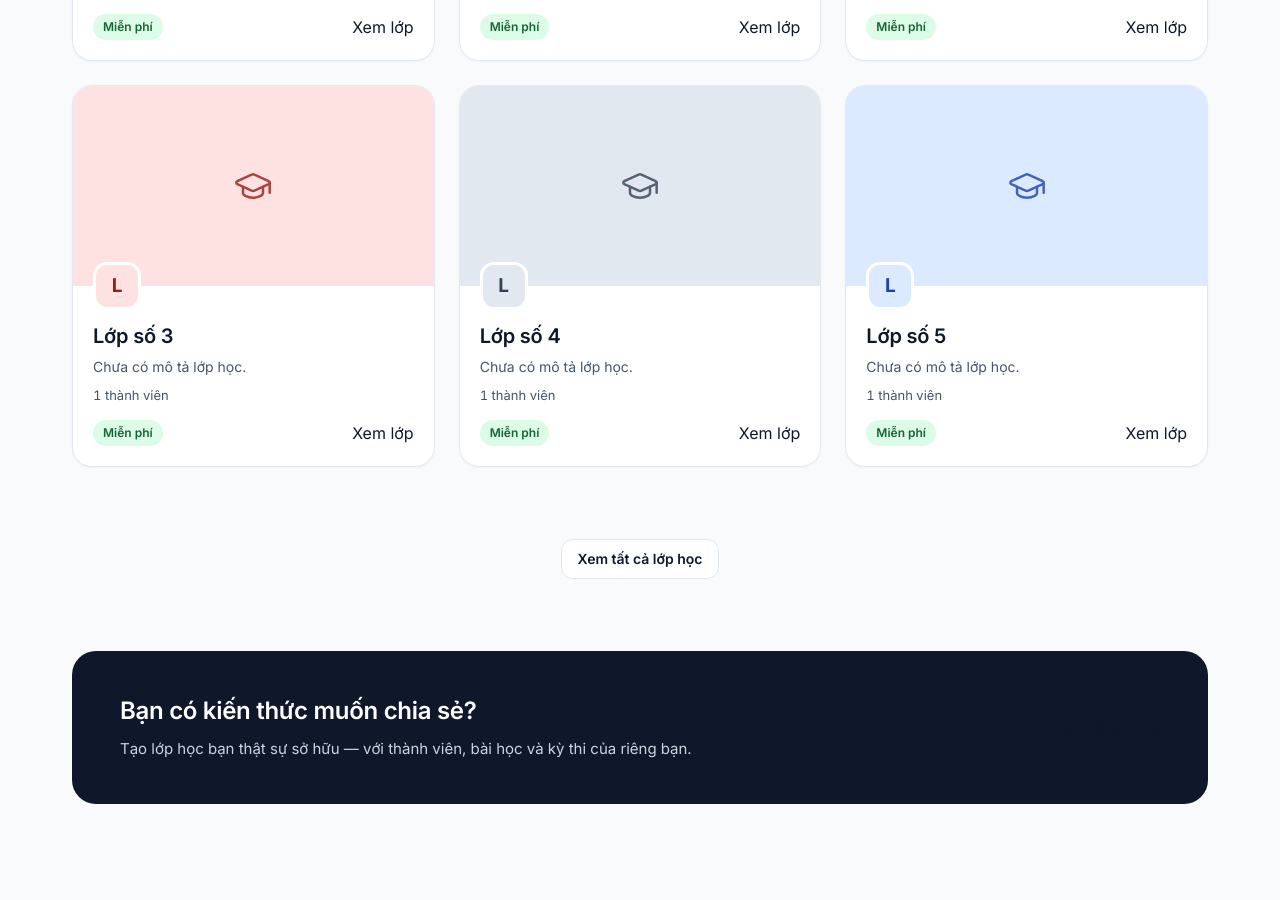
it: ClassesPage paging (R16-08) › keeps offering "Xem thêm lớp học" after a full page and appends the next page without duplicates
(page scrolled)
Step 1. Click the button "Xem tất cả lớp học" → [640, 559], box top-left (560, 539), bottom-right (720, 579)
(page scrolled)
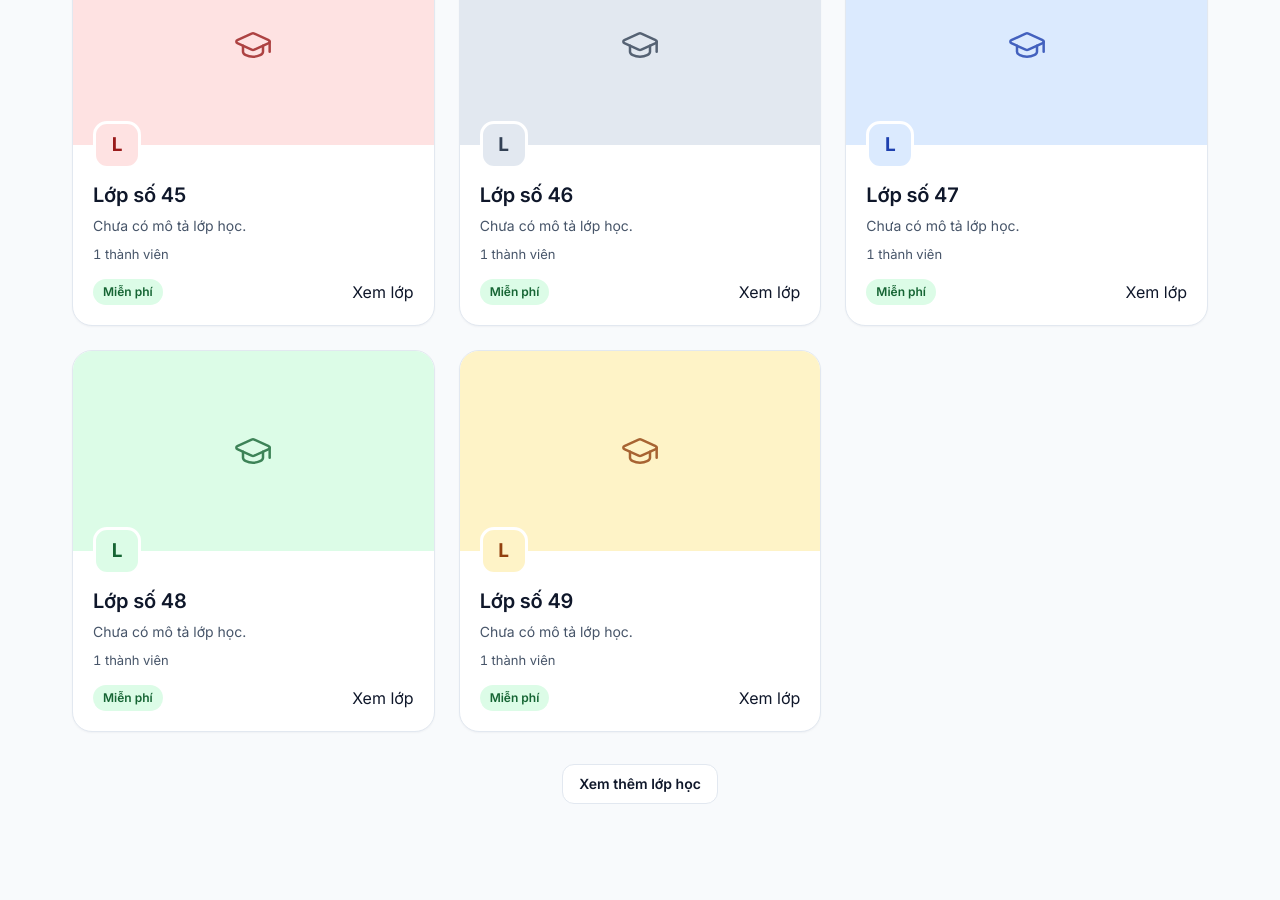
Step 2. Click the button "Xem thêm lớp học" → [640, 784], box top-left (562, 764), bottom-right (718, 804)
(page scrolled)
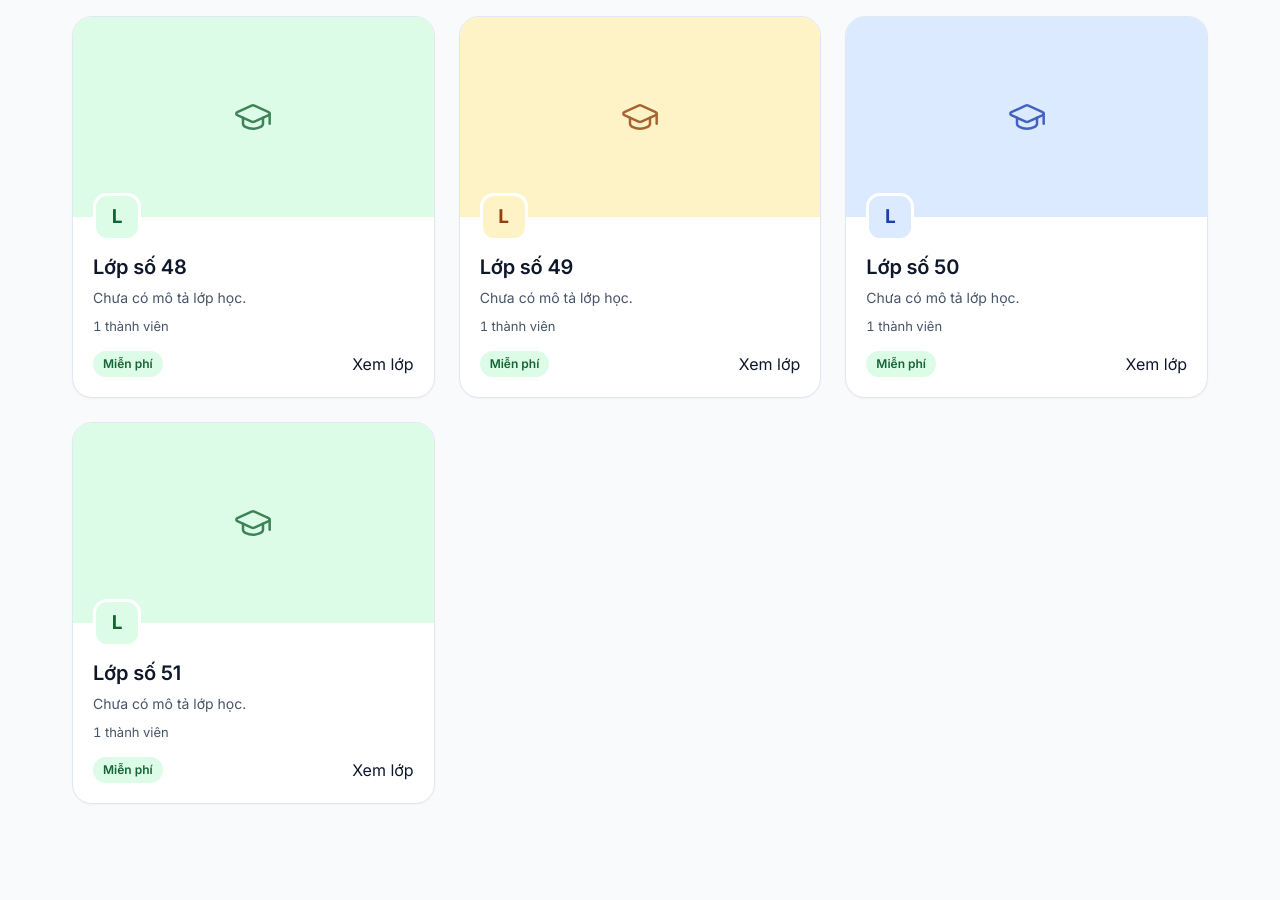
Check: the button "Xem thêm lớp học" is gone
